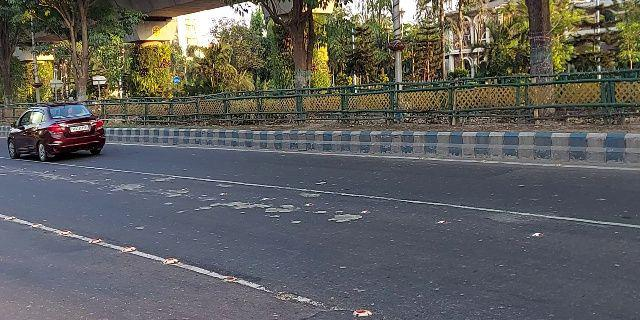Car: (4, 101, 107, 166)
